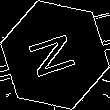N_E: (25, 28, 85, 82)
